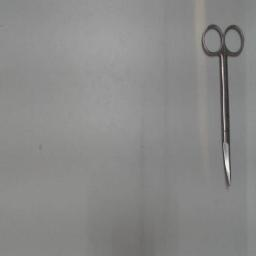Curved Mayo Scissors: (197, 22, 247, 190)
